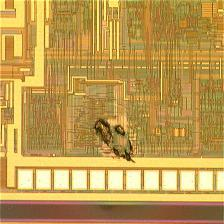PARTICLE: (89, 111, 143, 168)
